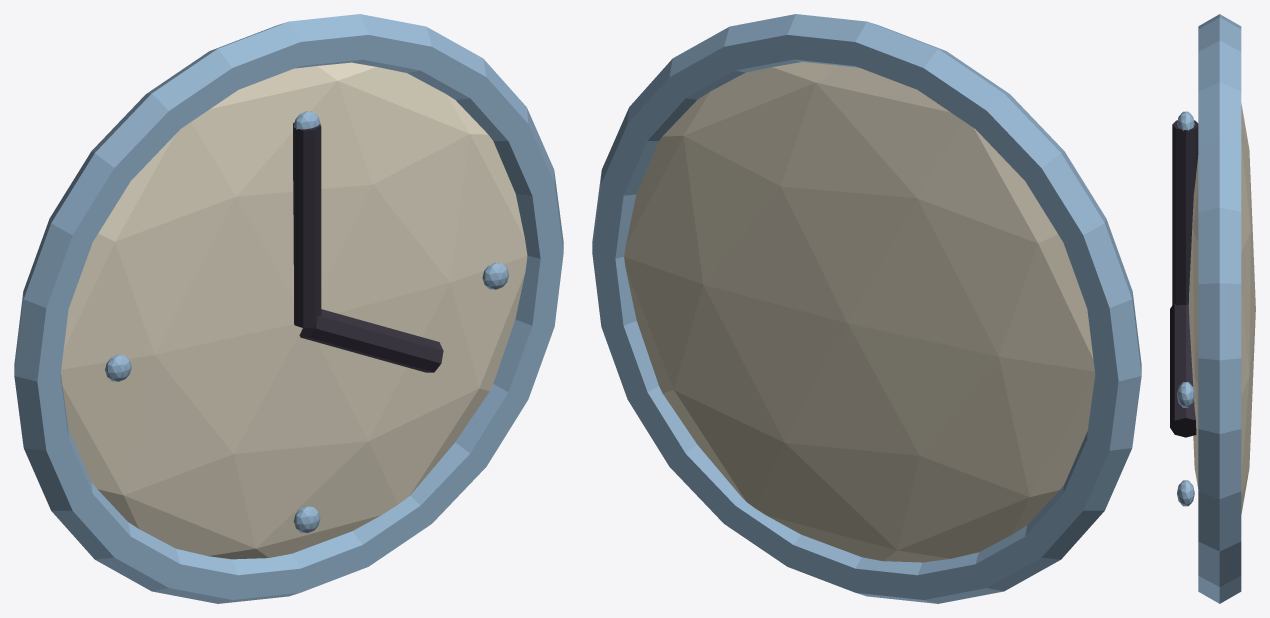
The model's file is better-late.glb.
3 views of the same model, side by side, from view 1: azimuth 30°, elevation 25°; view 2: azimuth 150°, elevation 25°; view 3: azimuth 270°, elevation 25° (orthographic). The views are drawn at different scales.
Visible parts, largest first — view 1: Clock face.001, Clock rim.001, Clock minute hand.001; view 2: Clock face.001, Clock rim.001; view 3: Clock rim.001, Clock minute hand.001, Clock face.001.
Boxes of the visible parts, x1,y1,x2,y2 form: Clock face.001: [61, 62, 527, 559]; Clock rim.001: [14, 14, 563, 603]; Clock minute hand.001: [293, 122, 443, 372]; Clock face.001: [624, 62, 1095, 562]; Clock rim.001: [592, 14, 1141, 603]; Clock rim.001: [1177, 14, 1241, 603]; Clock minute hand.001: [1170, 120, 1198, 437]; Clock face.001: [1188, 103, 1255, 514].
Bounding box in the file's own units: 0.0262 × 0.0262 × 0.0038.
